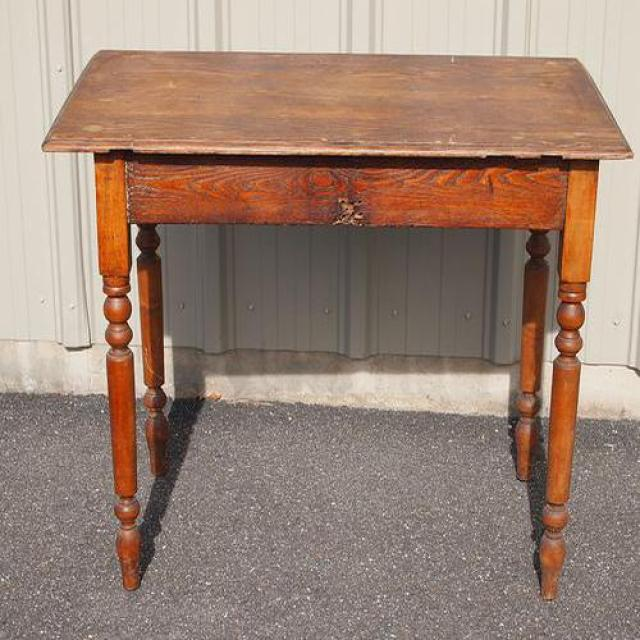table: (40, 50, 634, 602)
